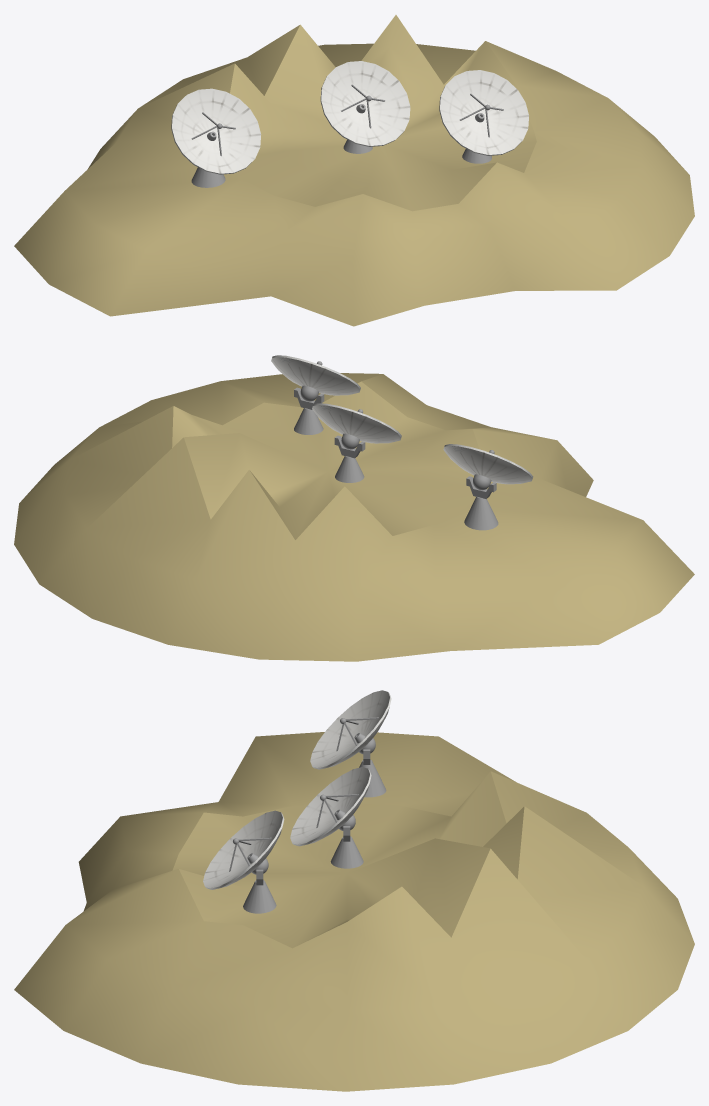
The model's file is temp_island.glb.
The picture shows the model from 3 angles, top to bottom: view 1: azimuth 30°, elevation 25°; view 2: azimuth 150°, elevation 25°; view 3: azimuth 270°, elevation 25°; orthographic projection. The views are drawn at different scales.
Size of the model in its own units: 22.05 by 4.83 by 19.15.
Materials: 3 (1 with a texture image).
